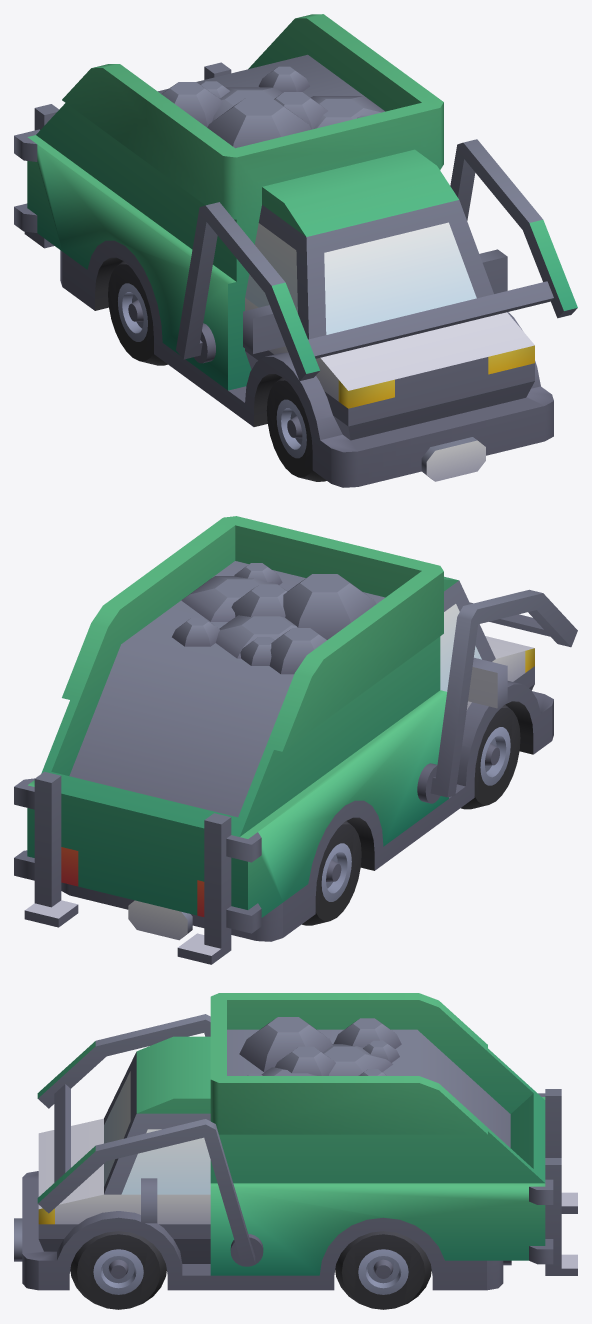
File: garbage-truck.glb
3 renders of one model, top to bottom at view 1: azimuth 30°, elevation 25°; view 2: azimuth 150°, elevation 25°; view 3: azimuth 270°, elevation 25°, orthographic. The views are drawn at different scales.
Parts seen in each view (by area): view 1: body, arm, trash, wheel-back-right, wheel-front-right; view 2: body, trash, arm, wheel-front-right, wheel-back-right; view 3: body, arm, trash, wheel-front-left, wheel-back-left.
Part boxes in pixels (<box>): body: <box>14,14,553,487</box>; arm: <box>176,139,577,380</box>; trash: <box>161,66,385,148</box>; wheel-back-right: <box>108,261,167,365</box>; wheel-front-right: <box>266,377,326,481</box>; body: <box>14,516,553,964</box>; trash: <box>172,563,376,674</box>; arm: <box>417,589,577,803</box>; wheel-front-right: <box>461,704,520,809</box>; wheel-back-right: <box>302,821,361,925</box>; body: <box>14,993,577,1290</box>; arm: <box>37,1014,263,1266</box>; trash: <box>239,1017,401,1075</box>; wheel-front-left: <box>70,1231,166,1309</box>; wheel-back-left: <box>335,1231,431,1309</box>.
Size of the model in its own units: 0.4638 by 0.4638 by 1.
1 material, 1 textured.
